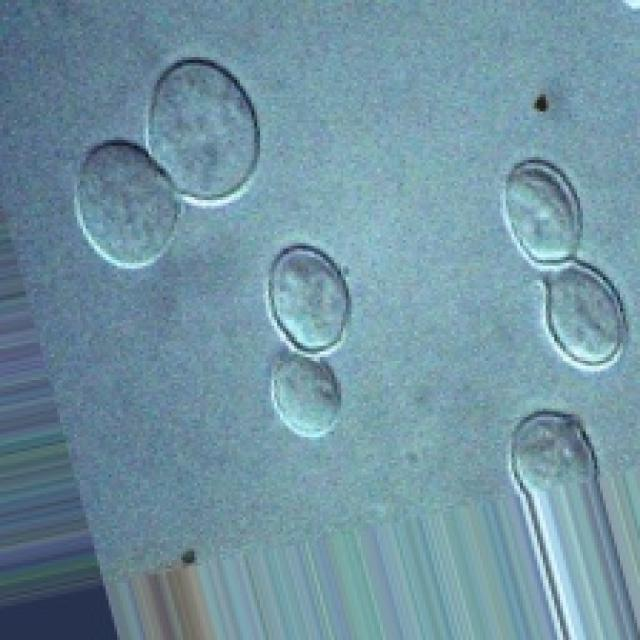Spherical_bacteria: (16, 12, 284, 265), (196, 204, 397, 488), (393, 154, 640, 380)
